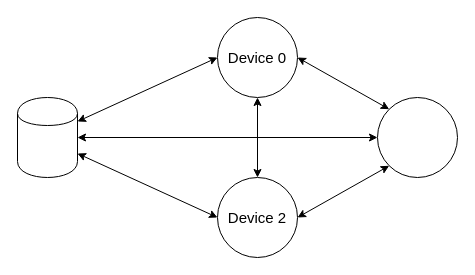
Image size: 475x275. Some labels were removed from this diagram. The box of each missing label's shape, as (x1, y1, x2, y2) in pixels:
Client: (16, 96, 78, 178)
Device 1: (376, 96, 458, 178)
